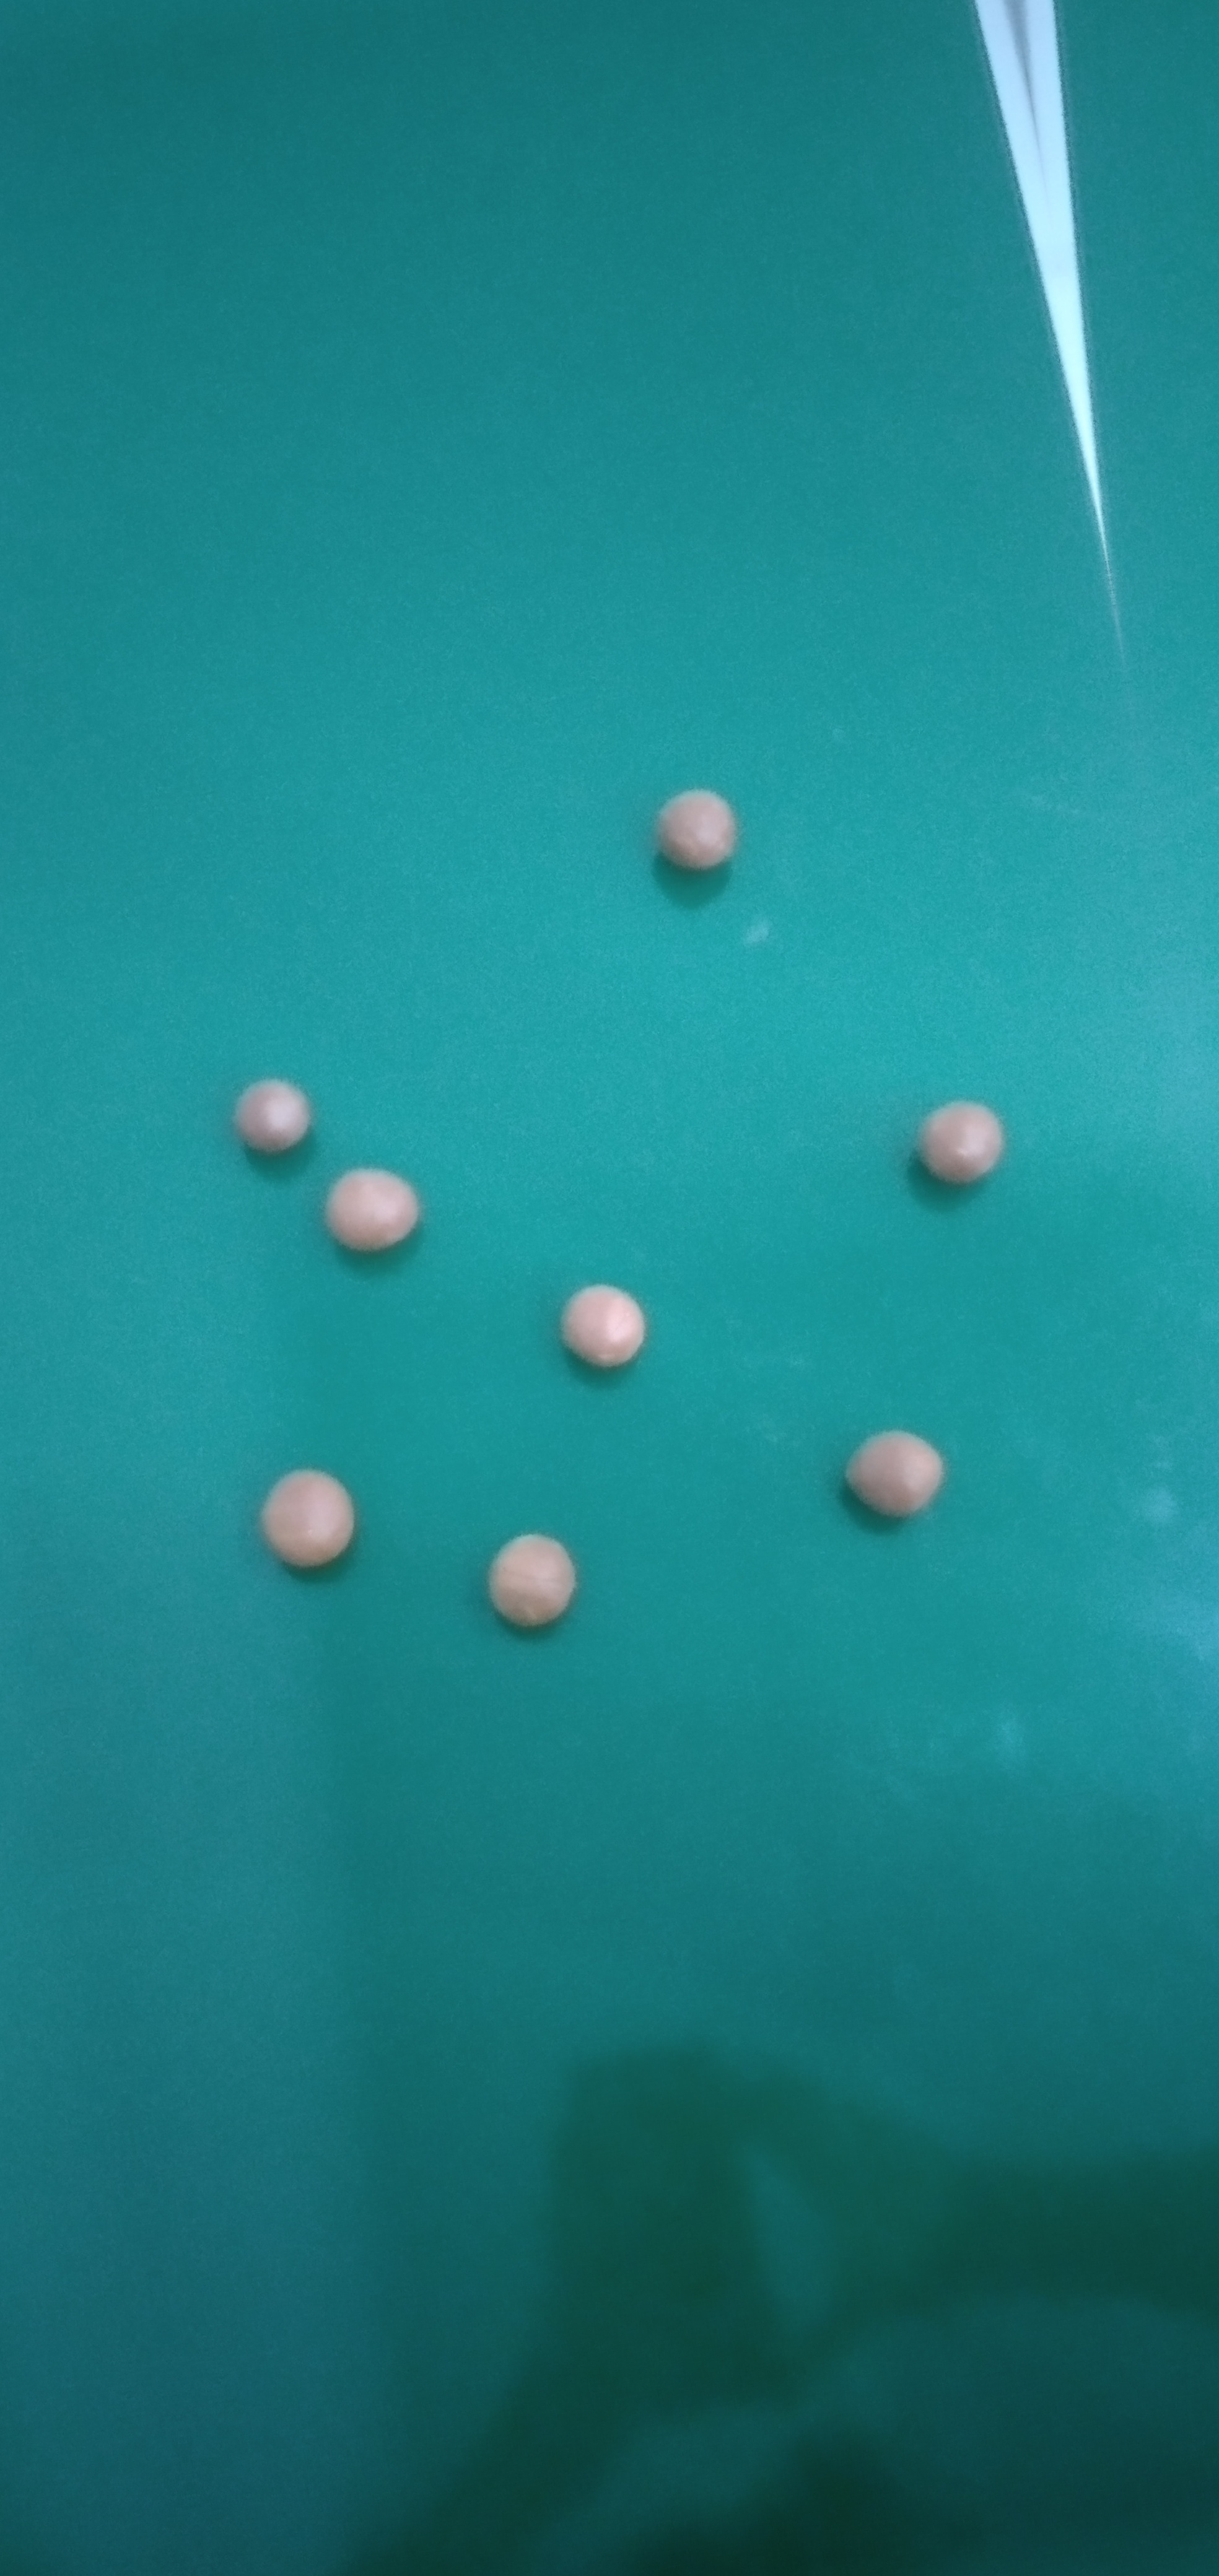mac: (836, 1424, 948, 1528), (258, 1462, 360, 1572), (483, 1523, 585, 1631), (319, 1155, 424, 1257), (554, 1278, 652, 1375), (913, 1091, 1014, 1186), (654, 785, 743, 876), (228, 1074, 319, 1160)
